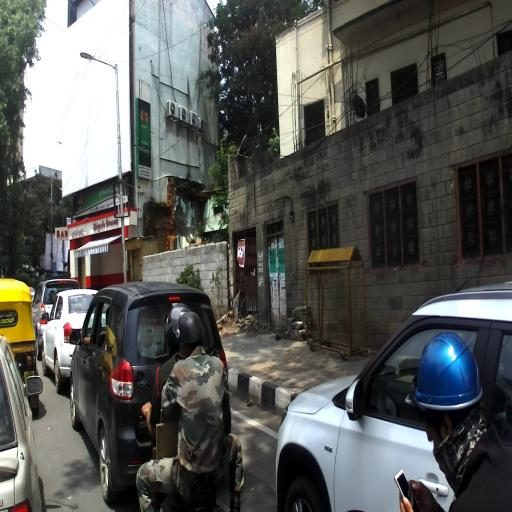street_light_0: (80, 50, 118, 70)
